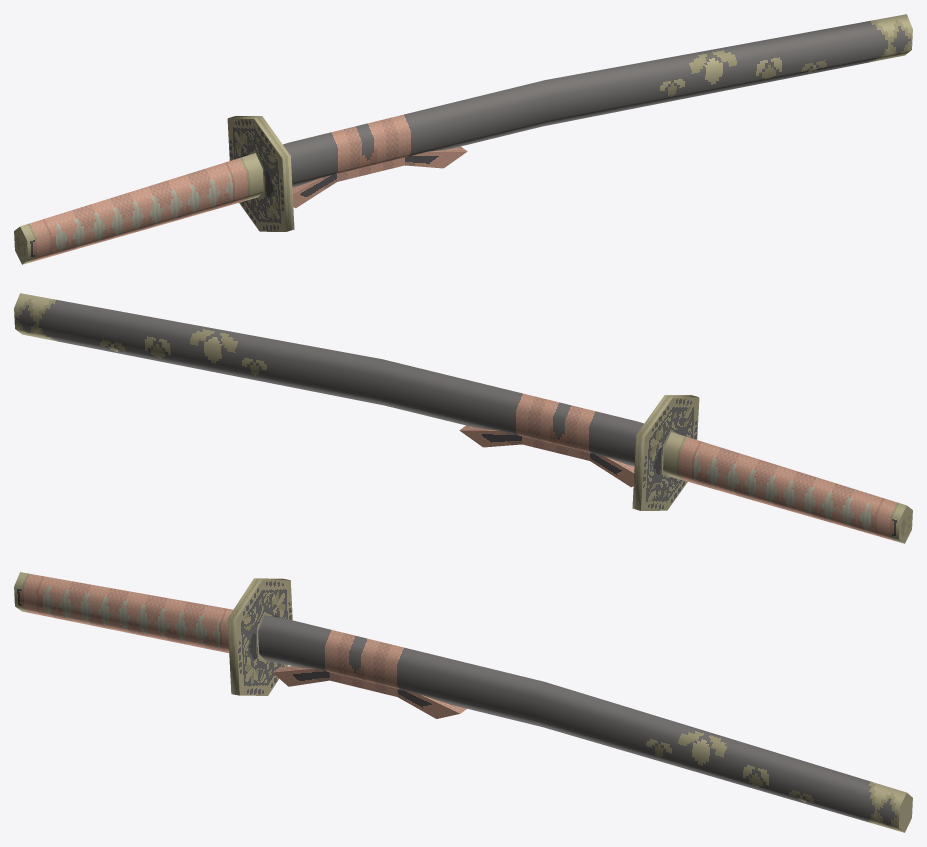
The model's file is 04ca_Katana.glb.
The picture shows the model from 3 angles, top to bottom: view 1: azimuth 30°, elevation 25°; view 2: azimuth 150°, elevation 25°; view 3: azimuth 330°, elevation 25°; orthographic projection.
Parts seen in each view (by area): view 1: part_0; view 2: part_0; view 3: part_0.
Part boxes in pixels (<box>): part_0: <box>14,14,912,264</box>; part_0: <box>14,293,912,543</box>; part_0: <box>14,572,912,832</box>.
Size of the model in its own units: 1.05 by 0.1303 by 0.1126.
Materials: 1 (1 with a texture image).
